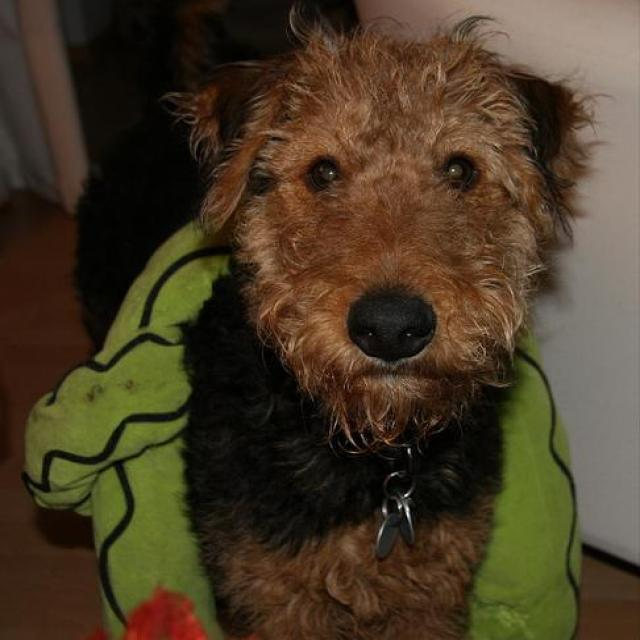airedale: (178, 13, 610, 637)
